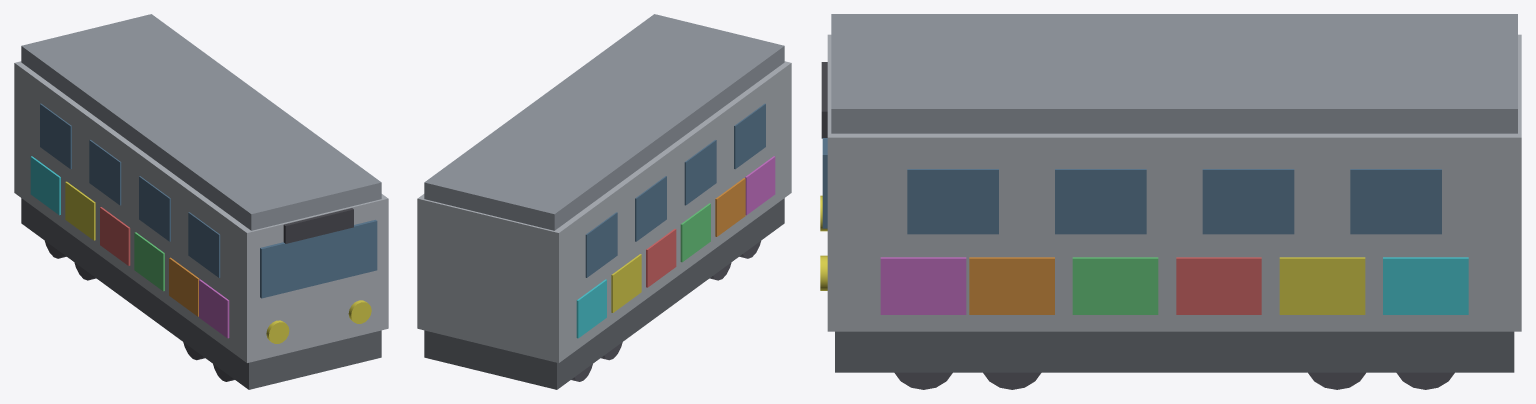
Rendered from 09_subway_train.glb.
The picture shows the model from 3 angles, left to right: view 1: azimuth 30°, elevation 25°; view 2: azimuth 150°, elevation 25°; view 3: azimuth 270°, elevation 25°; orthographic projection. The views are drawn at different scales.
Visible parts, largest first — view 1: SubwayTrain; view 2: SubwayTrain; view 3: SubwayTrain.
Part boxes in pixels (x1=…): SubwayTrain: x1=14, y1=14, x2=388, y2=389; SubwayTrain: x1=417, y1=14, x2=791, y2=389; SubwayTrain: x1=820, y1=14, x2=1521, y2=389.
Bounding box in the file's own units: 1.69 × 2.11 × 4.75.
